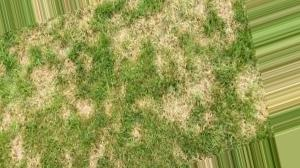patch: (168, 98, 194, 116), (241, 77, 266, 95), (138, 25, 164, 41), (35, 72, 52, 91), (4, 107, 24, 120), (13, 139, 29, 154), (192, 83, 213, 94), (193, 4, 203, 13), (174, 9, 186, 16), (124, 31, 131, 42)
